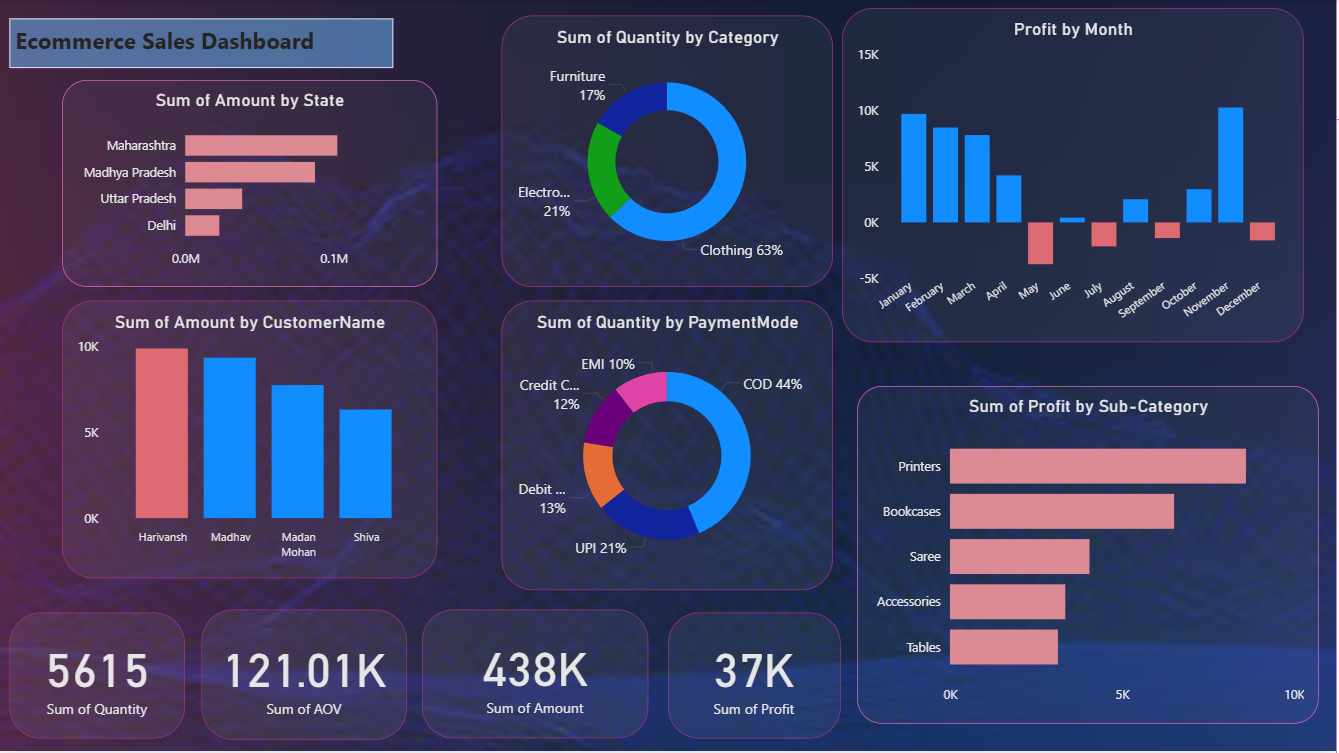

What the dashboard file says about the page in this screenshot:
{"tool":"powerbi","page":{"name":"Page 1","canvas":[1280,720],"ordinal":0},"visuals":[{"type":"textbox","box":[10.1,18.7,367.6,47.4],"z":0},{"type":"columnChart","fields":{"Category":["Orders.Order Date.Variation.Date Hierarchy.Month"],"Y":["Sum(Details.Profit)"]},"box":[807.1,8.6,442.3,320.2],"z":1000},{"type":"barChart","fields":{"Category":["Details.Sub-Category"],"Y":["Sum(Details.Profit)"]},"box":[821.4,370.5,442.3,323.1],"z":2000},{"type":"donutChart","fields":{"Category":["Details.Category"],"Y":["Sum(Details.Quantity)"]},"box":[481.1,15.8,317.4,259.9],"z":3000},{"type":"donutChart","fields":{"Y":["Sum(Details.Quantity)"],"Category":["Details.PaymentMode"]},"box":[481.1,288.6,317.4,277.2],"z":4000},{"type":"card","fields":{"Values":["Sum(Details.Amount)"]},"box":[405,584.5,216.8,123.5],"z":5000},{"type":"card","fields":{"Values":["Sum(Details.Quantity)"]},"box":[10.1,587.3,168,120.6],"z":6000},{"type":"card","fields":{"Values":["Sum(Details.Profit)"]},"box":[640.5,587.3,165.1,120.6],"z":7000},{"type":"card","fields":{"Values":["Sum(Details.AOV)"]},"box":[193.9,584.5,196.7,124.9],"z":8000},{"type":"barChart","fields":{"Y":["Sum(Details.Amount)"],"Category":["Orders.State"]},"box":[60.3,77.5,359,198.2],"z":9000},{"type":"columnChart","fields":{"Category":["Orders.CustomerName"],"Y":["Sum(Details.Amount)"]},"box":[60.3,288.6,359,265.7],"z":10000}]}

Visuals, with their boxes in screenshot pixels (x1, y1, x2, y2), scaled from the page's 1280x720 canvas onto the 1339x753 screenshot:
textbox: (x1=11, y1=20, x2=395, y2=69)
columnChart - Orders.Order Date.Variation.Date Hierarchy.Month x Sum(Details.Profit): (x1=844, y1=9, x2=1307, y2=344)
barChart - Details.Sub-Category x Sum(Details.Profit): (x1=859, y1=387, x2=1322, y2=725)
donutChart - Details.Category x Sum(Details.Quantity): (x1=503, y1=17, x2=835, y2=288)
donutChart - Sum(Details.Quantity) x Details.PaymentMode: (x1=503, y1=302, x2=835, y2=592)
card - Sum(Details.Amount): (x1=424, y1=611, x2=650, y2=740)
card - Sum(Details.Quantity): (x1=11, y1=614, x2=186, y2=740)
card - Sum(Details.Profit): (x1=670, y1=614, x2=843, y2=740)
card - Sum(Details.AOV): (x1=203, y1=611, x2=409, y2=742)
barChart - Sum(Details.Amount) x Orders.State: (x1=63, y1=81, x2=439, y2=288)
columnChart - Orders.CustomerName x Sum(Details.Amount): (x1=63, y1=302, x2=439, y2=580)
